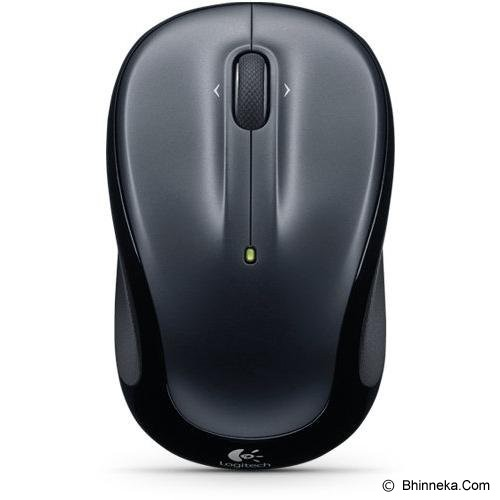Mouse: (91, 3, 402, 475)
